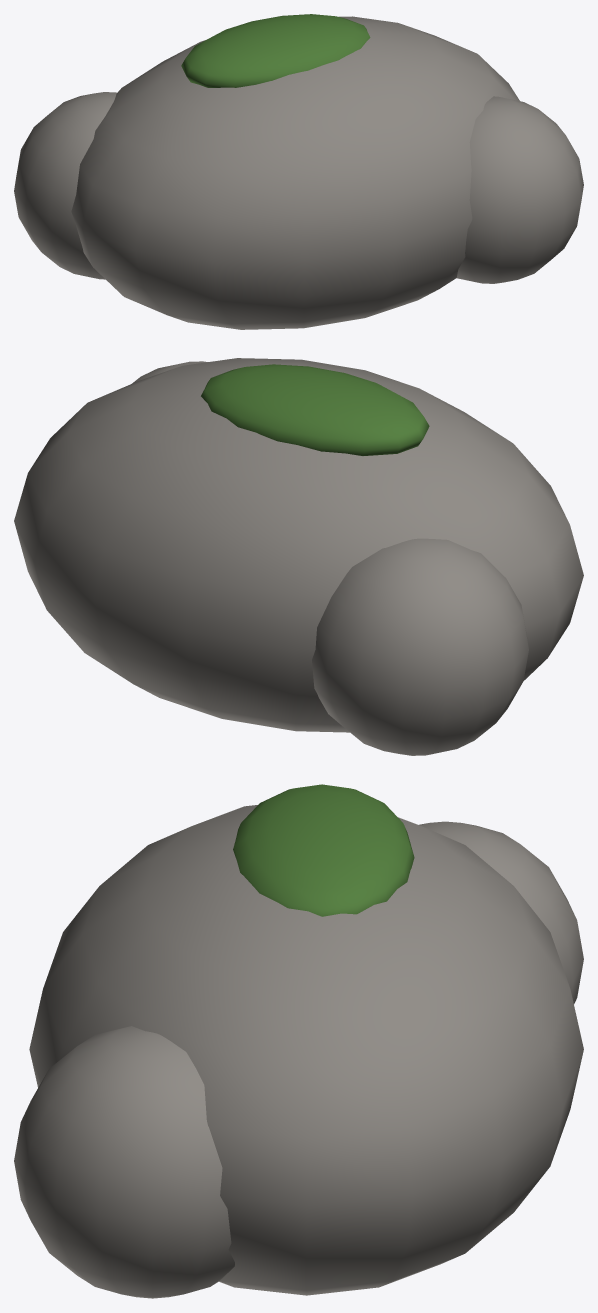
The model's file is rock_a.glb.
The picture shows the model from 3 angles, top to bottom: view 1: azimuth 30°, elevation 25°; view 2: azimuth 150°, elevation 25°; view 3: azimuth 270°, elevation 25°; orthographic projection. The views are drawn at different scales.
Visible parts, largest first — view 1: Sphere, Sphere.003; view 2: Sphere, Sphere.003; view 3: Sphere, Sphere.003.
Boxes of the visible parts, x1,y1,x2,y2 form: Sphere: (14,16,583,329); Sphere.003: (181,14,370,87); Sphere: (14,358,583,755); Sphere.003: (201,364,429,455); Sphere: (14,805,583,1298); Sphere.003: (233,784,414,916).
Size of the model in its own units: 2.45 by 1.26 by 1.85.
